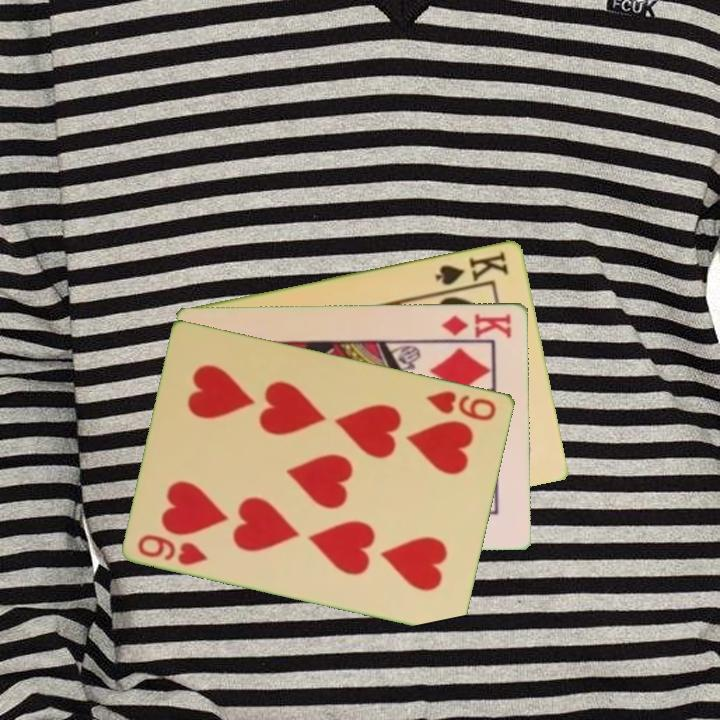9h: (135, 530, 211, 568), (424, 387, 500, 424)
Kd: (439, 309, 515, 340)
Ks: (432, 246, 512, 288)
